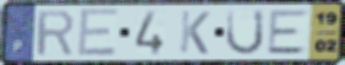4: (133, 9, 167, 57)
E: (76, 7, 122, 60), (265, 8, 312, 57)
K: (177, 9, 213, 56)
R: (35, 8, 77, 59)
U: (223, 7, 267, 57)
